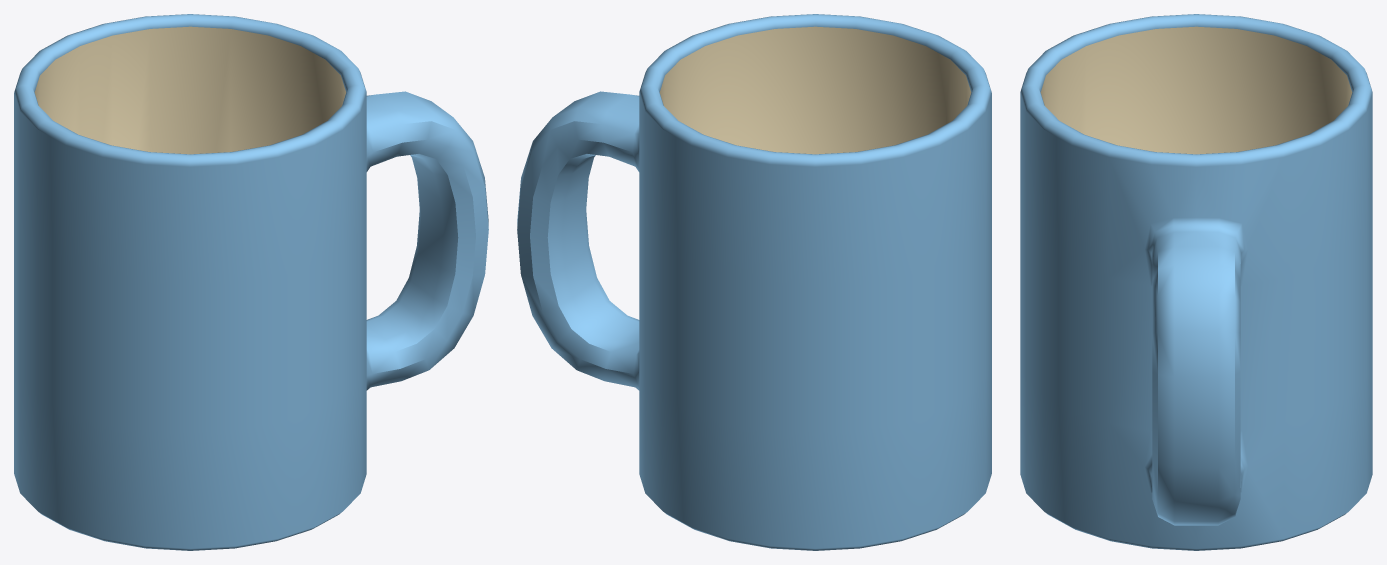
The model's file is caneca_azul_xadrez_pacote.glb.
The picture shows the model from 3 angles, left to right: view 1: azimuth 30°, elevation 25°; view 2: azimuth 150°, elevation 25°; view 3: azimuth 270°, elevation 25°; orthographic projection.
Visible parts, largest first — view 1: caneca_azul_xadrez_pacote; view 2: caneca_azul_xadrez_pacote; view 3: caneca_azul_xadrez_pacote.
Part boxes in pixels (left/top/right/bottom): caneca_azul_xadrez_pacote: left=14, top=14, right=488, bottom=550; caneca_azul_xadrez_pacote: left=517, top=14, right=991, bottom=550; caneca_azul_xadrez_pacote: left=1020, top=14, right=1372, bottom=550.
Bounding box in the file's own units: 0.1155 × 0.0996 × 0.0801.
Materials: 1 (1 with a texture image).
